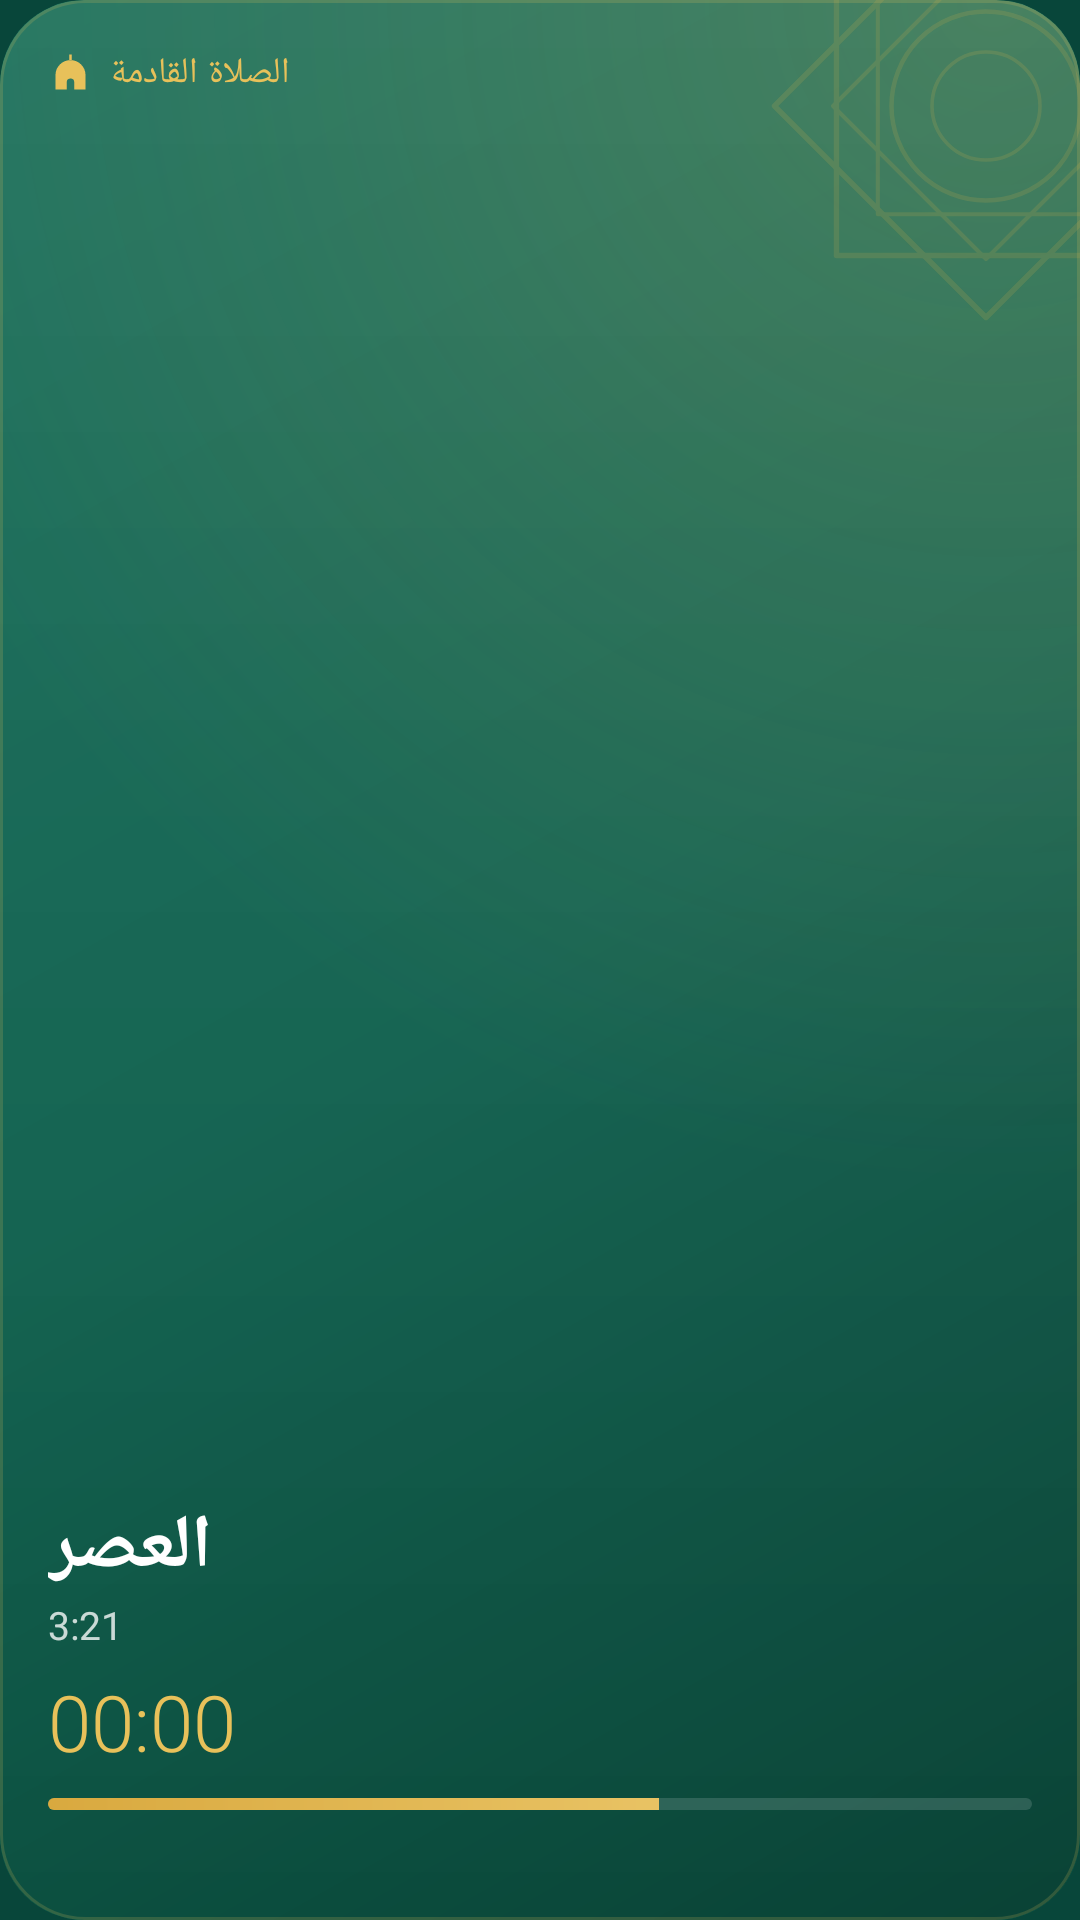

Icon click points for this 1080x1920 phone screenshot, format (x=x, y=y):
mosque: (x=70, y=72)
